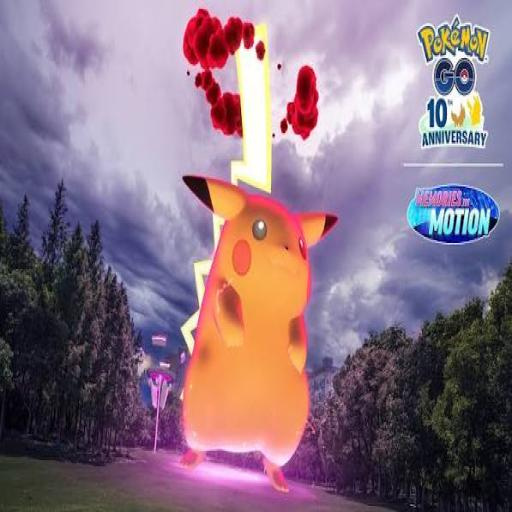Pikachu: (179, 22, 339, 492)
